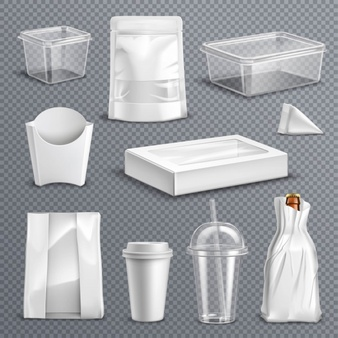PlasticBox: (198, 29, 330, 100), (16, 24, 94, 87)
